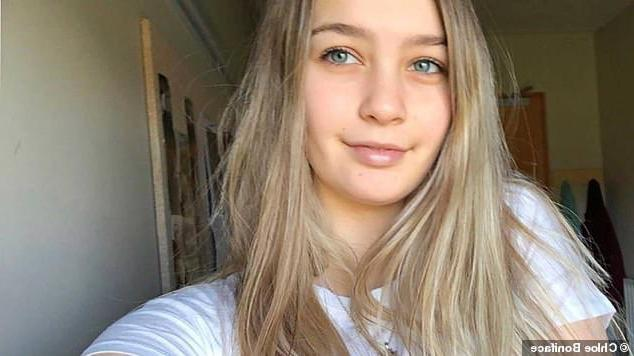face: (303, 1, 453, 205)
